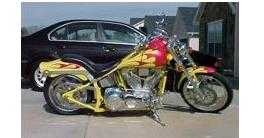motorcycle: (38, 21, 233, 115)
